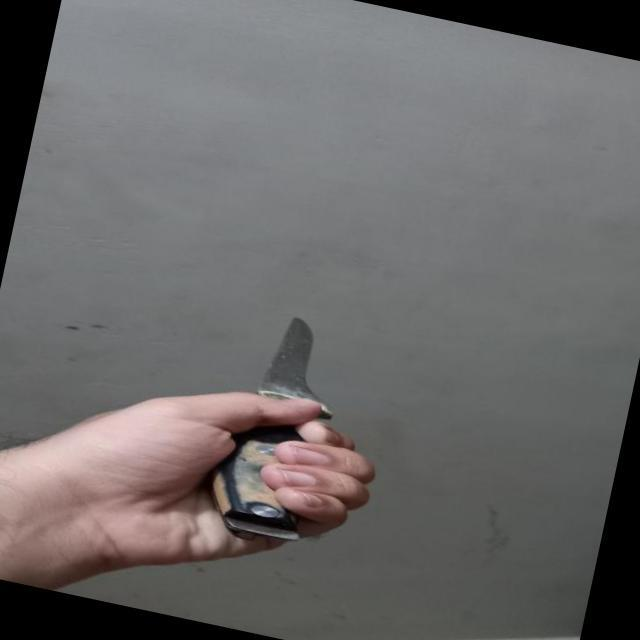Knife: (192, 297, 398, 564)
